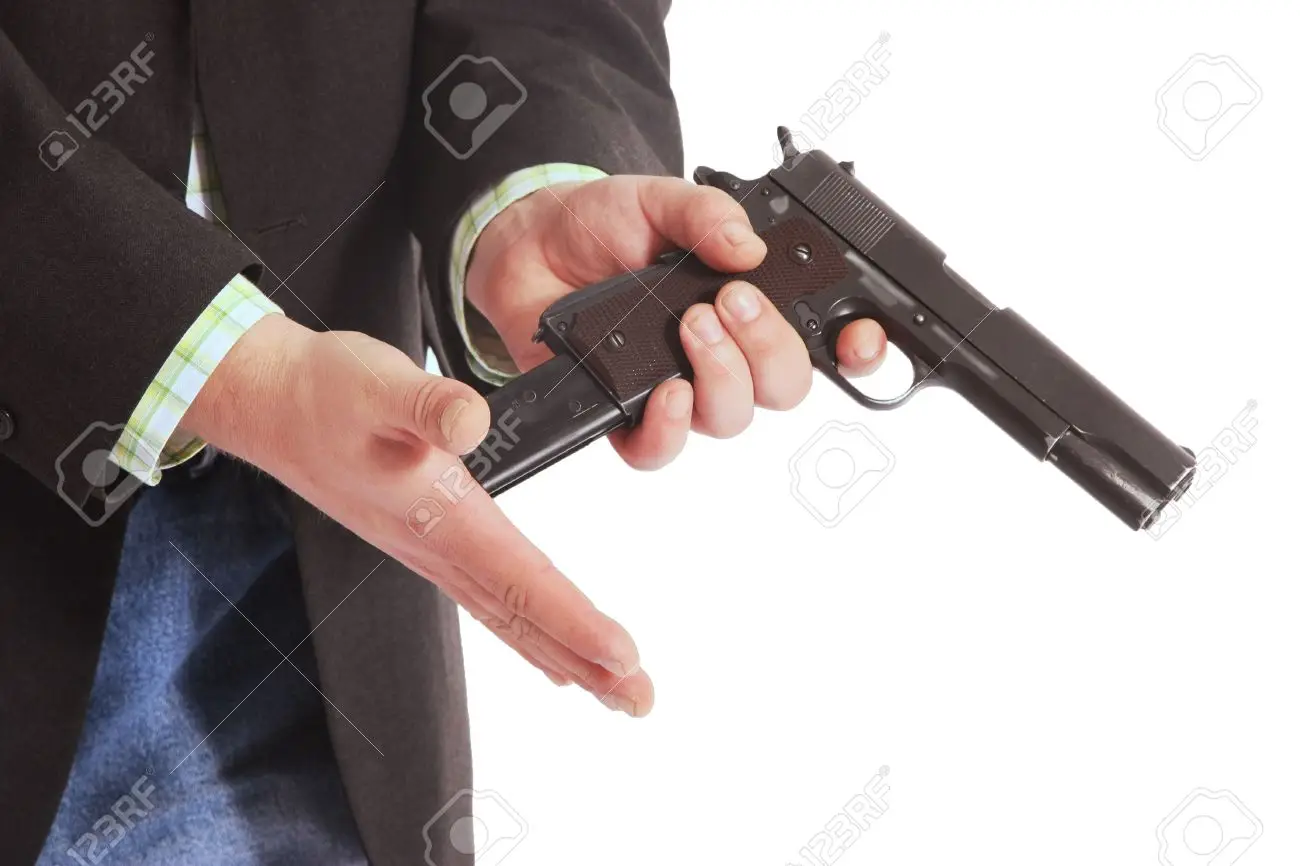gun: (423, 106, 1223, 660)
